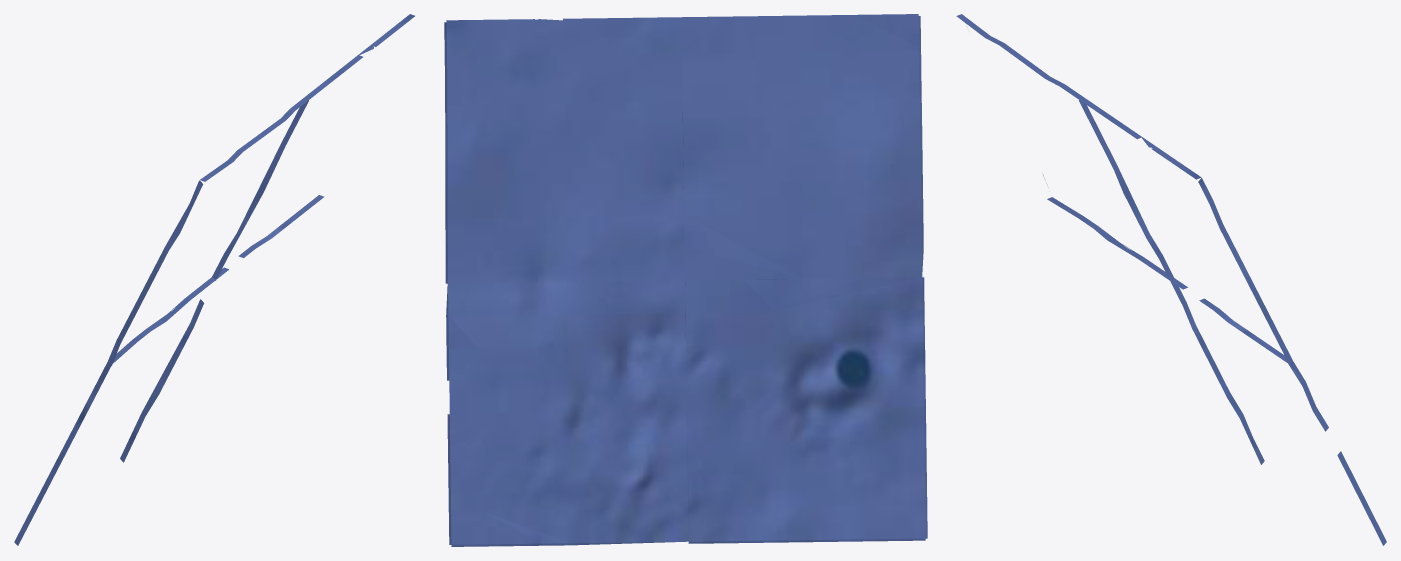
3 views of the same model, side by side, from view 1: azimuth 30°, elevation 25°; view 2: azimuth 150°, elevation 25°; view 3: azimuth 270°, elevation 25° (orthographic). The views are drawn at different scales.
Size of the model in its own units: 39288 by 35793 by 33544.
1 material, 1 textured.
